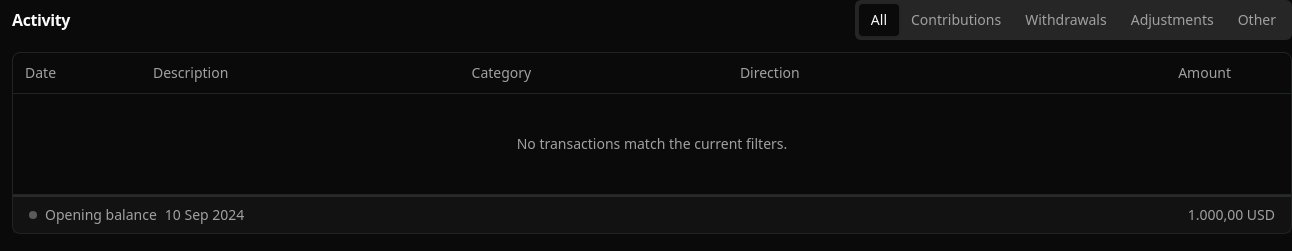
ActivitySection › hides the opening-balance row on the Contributions tab
Expected: the element with test id "activity-opening-balance-row" is shown, [13, 194, 1291, 232]
Click the tab with test id "activity-tab-contributions".
click(956, 20)  # box [899, 4, 1013, 36]
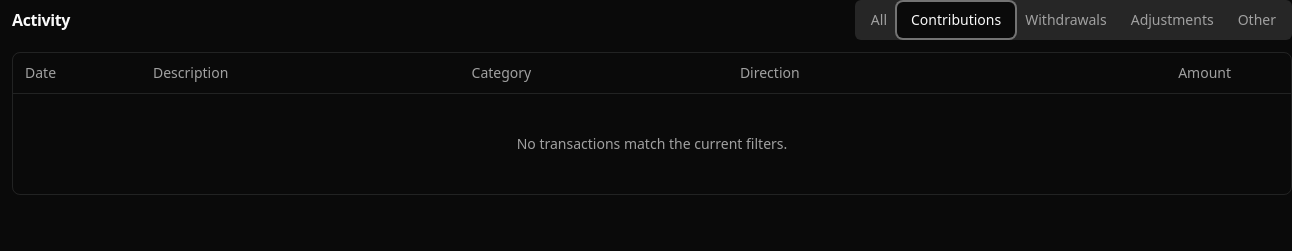
Expected: the element with test id "activity-opening-balance-row" is gone
